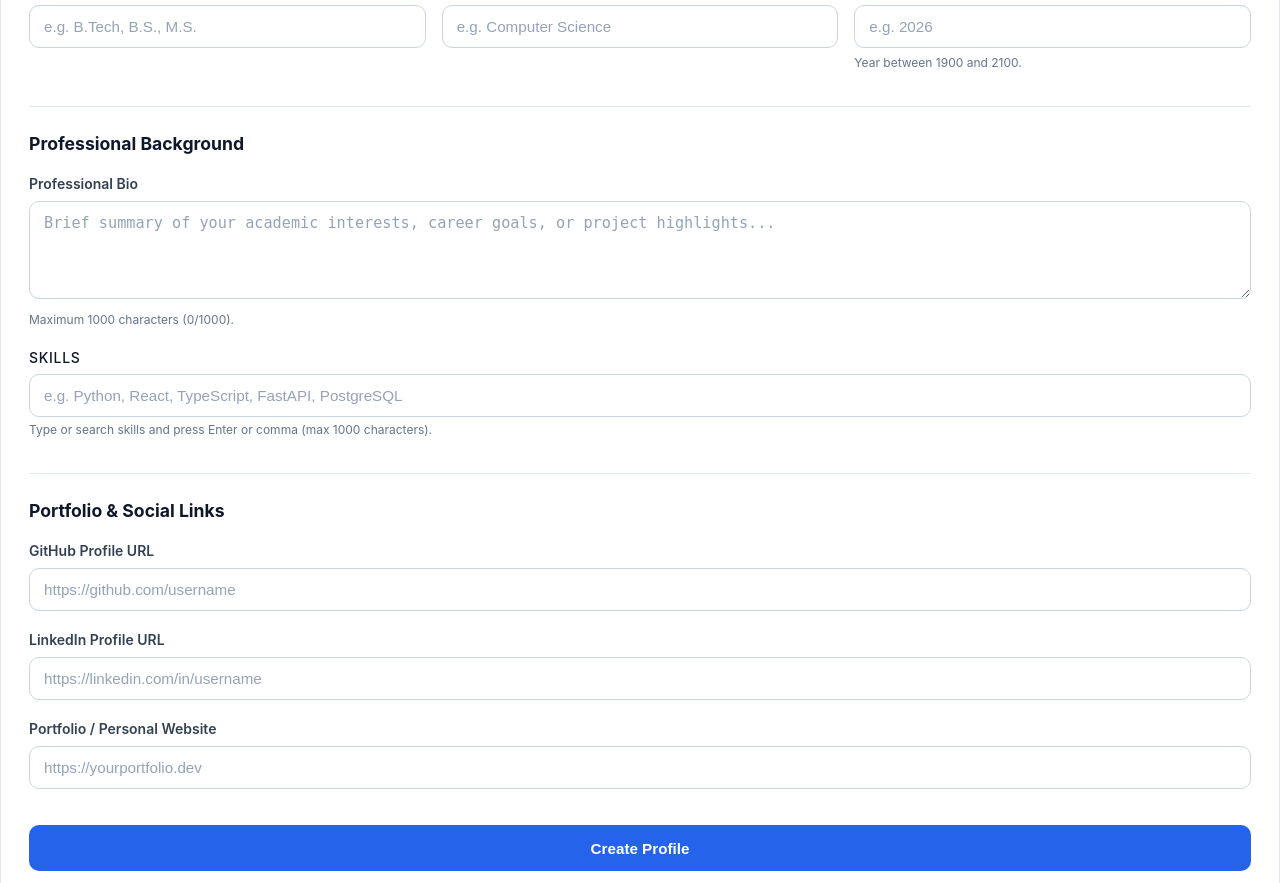
it: StudentProfilePage — Comprehensive F-03 Scenarios › Scenario 9: Empty full name rejected — client validation rejects empty full name with "Full name is required."
(page scrolled)
Step 1. Click the button "Create Profile" → (640, 848), box [29, 825, 1251, 871]
(page scrolled)
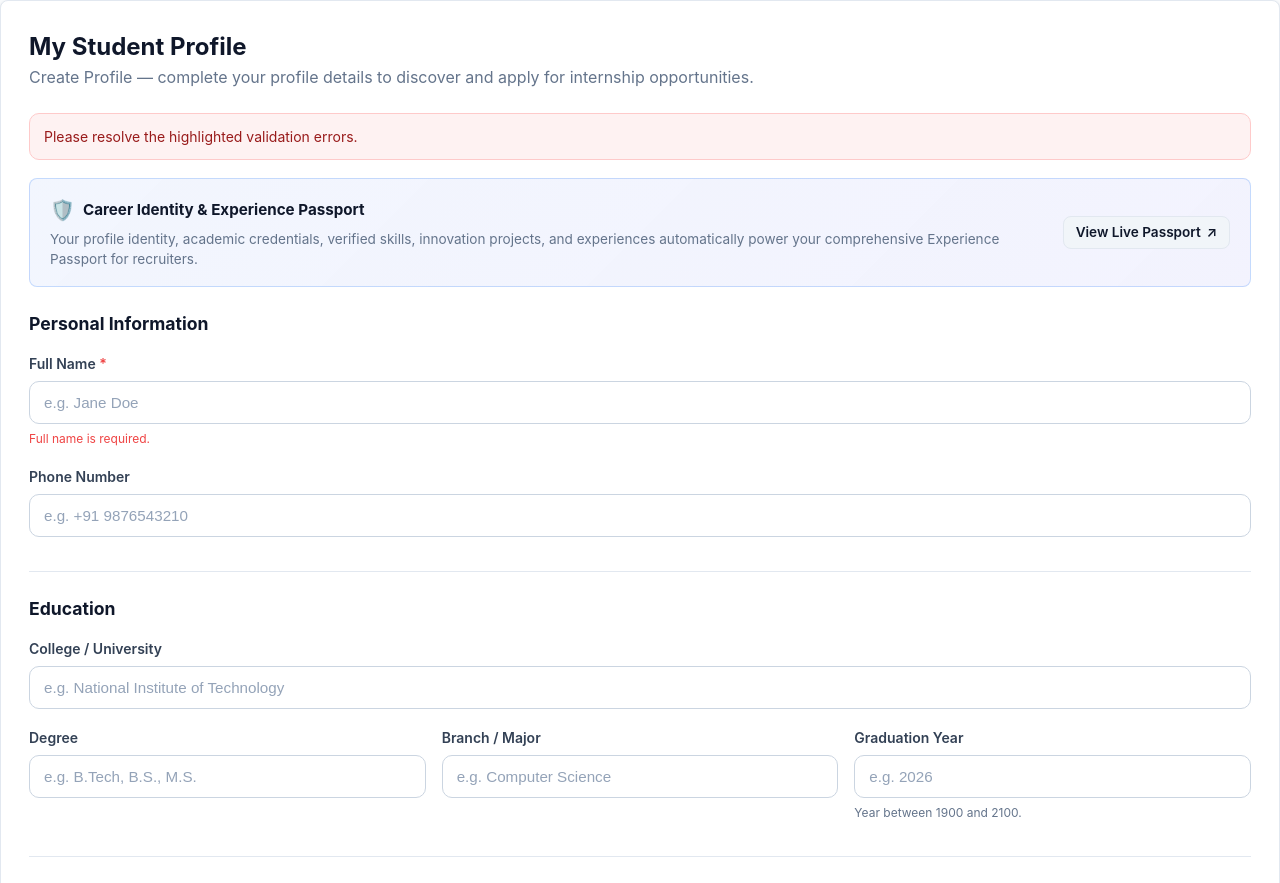
Expected: the text "Full name is required." is shown, [29, 431, 150, 446]
Expected: the text "Please resolve the highlighted validation errors." is shown, [29, 113, 1251, 160]
